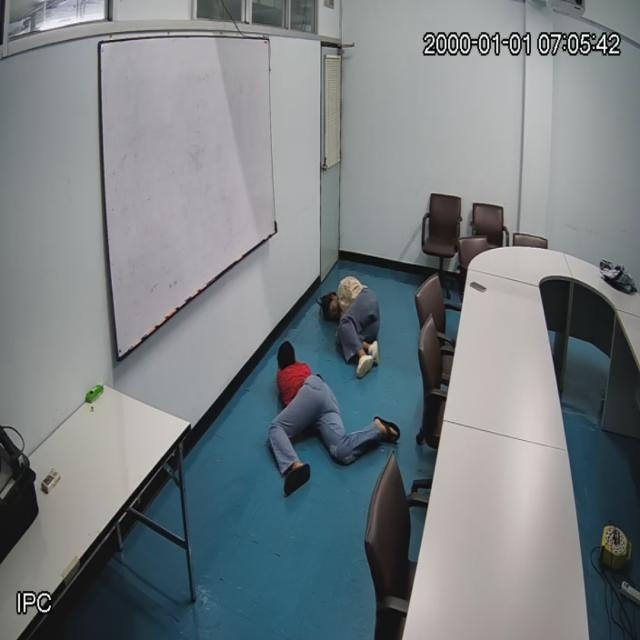fall: (271, 342, 367, 494), (323, 276, 382, 376)
